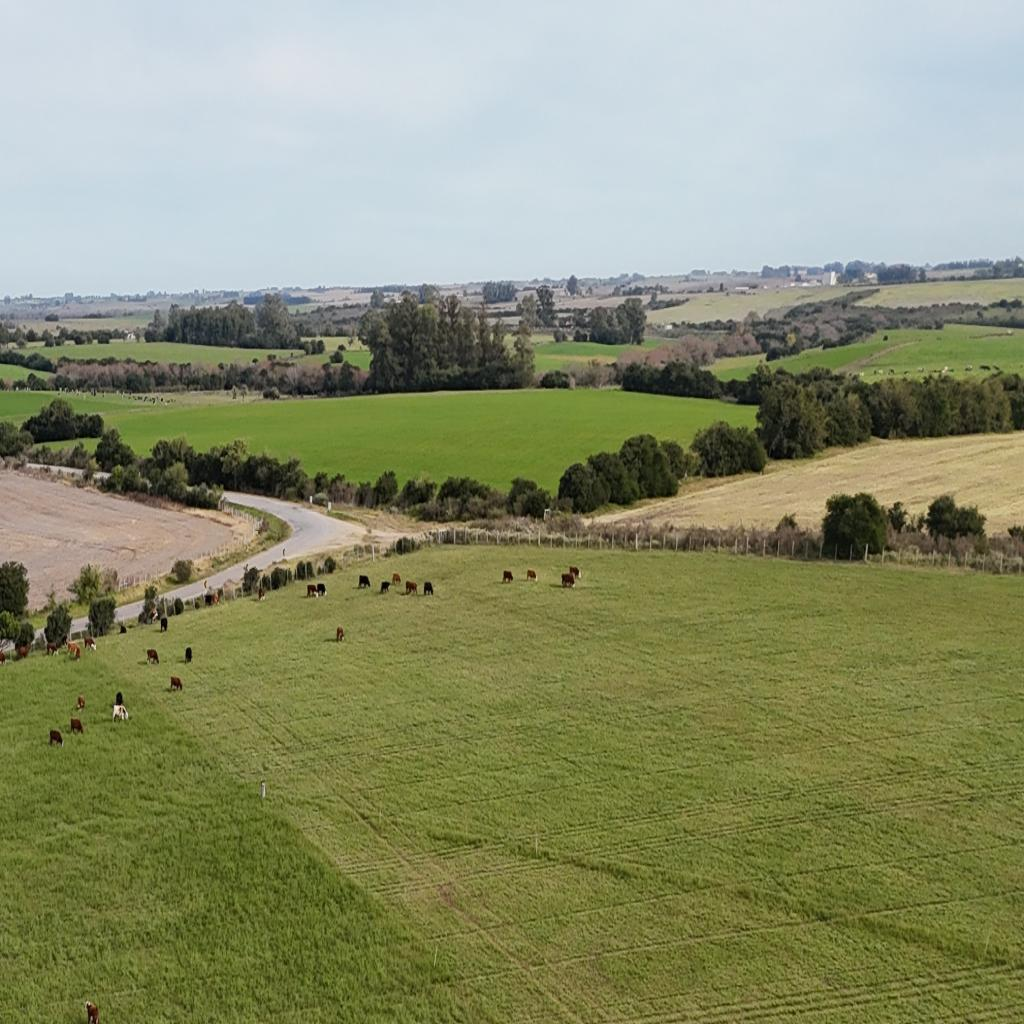cow: (85, 1000, 99, 1024), (112, 704, 128, 722), (70, 716, 84, 736), (49, 729, 63, 747), (67, 642, 81, 660), (561, 572, 575, 589), (146, 649, 159, 665), (46, 640, 59, 656), (316, 581, 328, 597), (170, 676, 182, 692), (84, 638, 96, 654), (17, 643, 28, 660), (406, 581, 418, 595), (359, 575, 371, 589), (569, 566, 581, 578), (502, 570, 513, 583), (380, 581, 391, 594), (77, 695, 85, 712), (150, 609, 159, 624), (306, 584, 316, 597), (336, 626, 344, 642), (424, 580, 433, 594), (526, 569, 536, 581), (392, 573, 401, 586), (205, 595, 214, 608), (0, 650, 7, 666), (115, 691, 123, 705), (161, 619, 168, 633), (185, 649, 192, 663), (258, 588, 265, 601), (62, 636, 68, 646), (120, 624, 126, 634)
